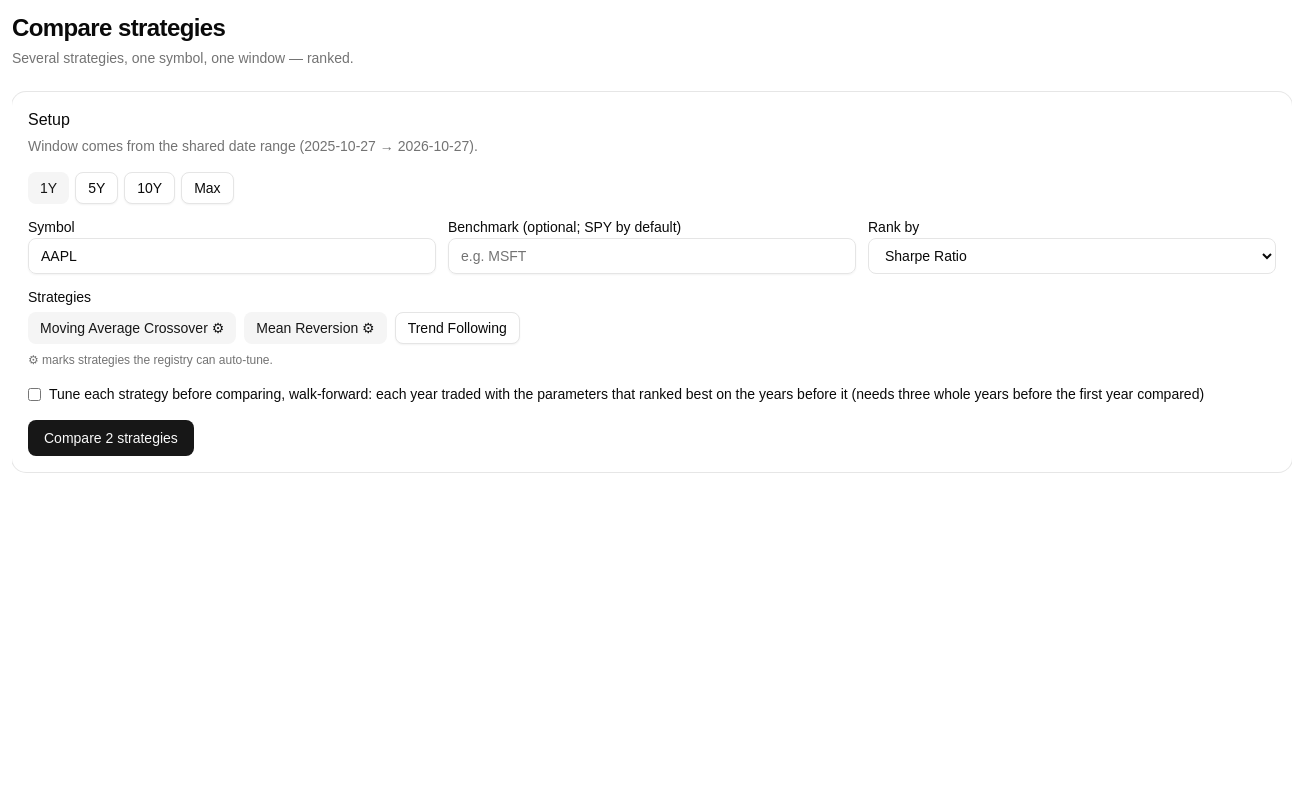
Test case: ComparePage — setup › says which rate every Sharpe in the table is net of
The width and height of the screenshot is (1292, 812).
Expected: the button "Moving Average Crossover ⚙" is shown, [28,312,236,344]
Click the button "Compare 2 strategies" at (111, 438), box [28,420,194,456]
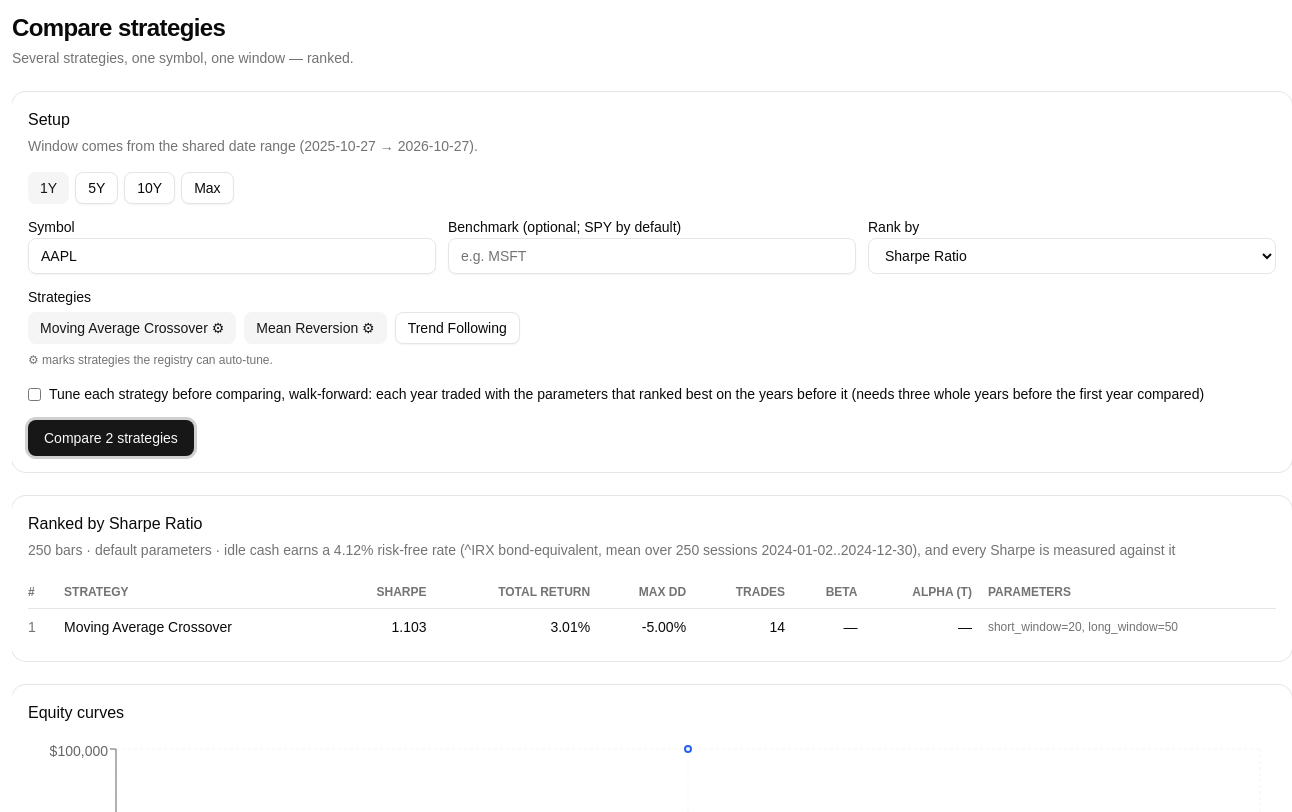
Expected: the text "cash earns a 4.12% risk-free rate" is shown, [28,540,1276,560]
